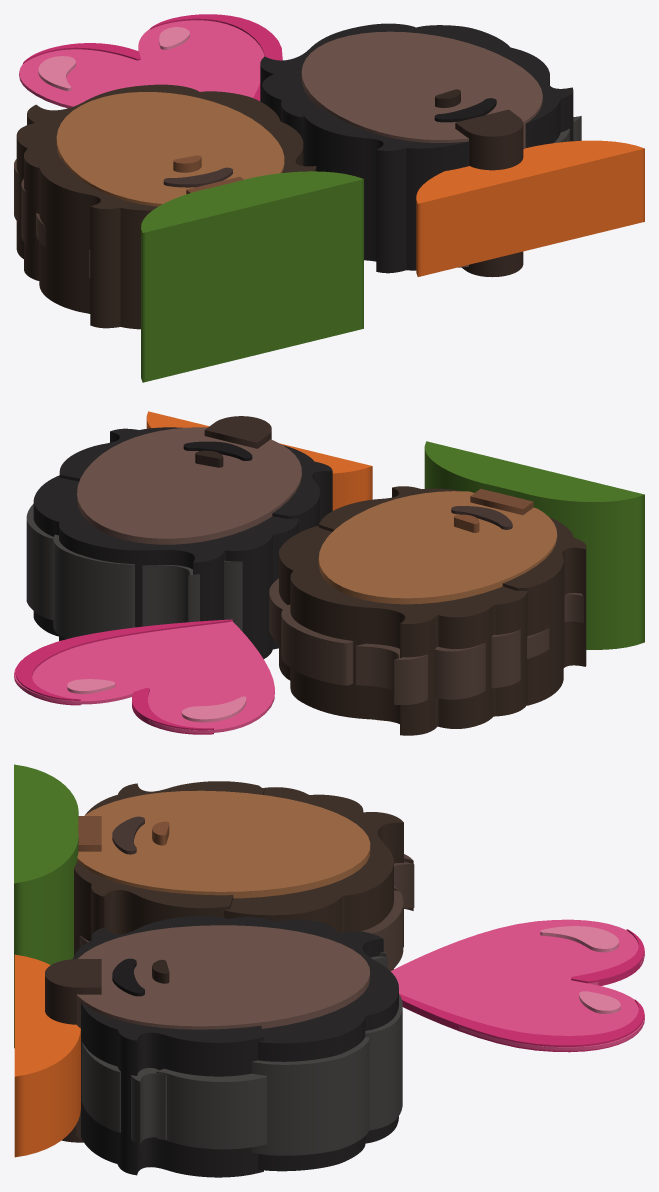
The model's file is emoji_u1f9d1_1f3fe_200d_2764_200d_1f9d1_1f3ff.glb.
3 renders of one model, top to bottom at view 1: azimuth 30°, elevation 25°; view 2: azimuth 150°, elevation 25°; view 3: azimuth 270°, elevation 25°, orthographic. The views are drawn at different scales.
Visible parts, largest first — view 1: emoji_u1f9d1_1f3fe_200d_2764_200d_1f9d1_1f3ff; view 2: emoji_u1f9d1_1f3fe_200d_2764_200d_1f9d1_1f3ff; view 3: emoji_u1f9d1_1f3fe_200d_2764_200d_1f9d1_1f3ff.
Part boxes in pixels (x1,y1,x2,y2): emoji_u1f9d1_1f3fe_200d_2764_200d_1f9d1_1f3ff: [14, 14, 644, 382]; emoji_u1f9d1_1f3fe_200d_2764_200d_1f9d1_1f3ff: [14, 411, 644, 735]; emoji_u1f9d1_1f3fe_200d_2764_200d_1f9d1_1f3ff: [14, 764, 644, 1177].
Size of the model in its own units: 0.0345 by 0.0098 by 0.034.
